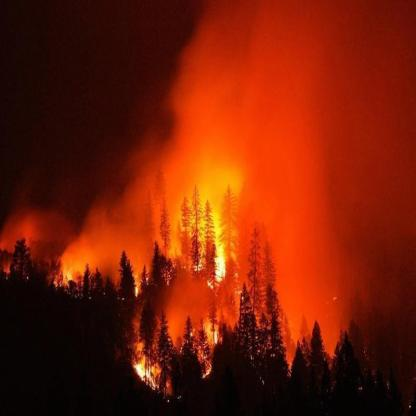fire: (112, 182, 246, 392), (40, 244, 90, 296)
smoke: (53, 3, 405, 325)
